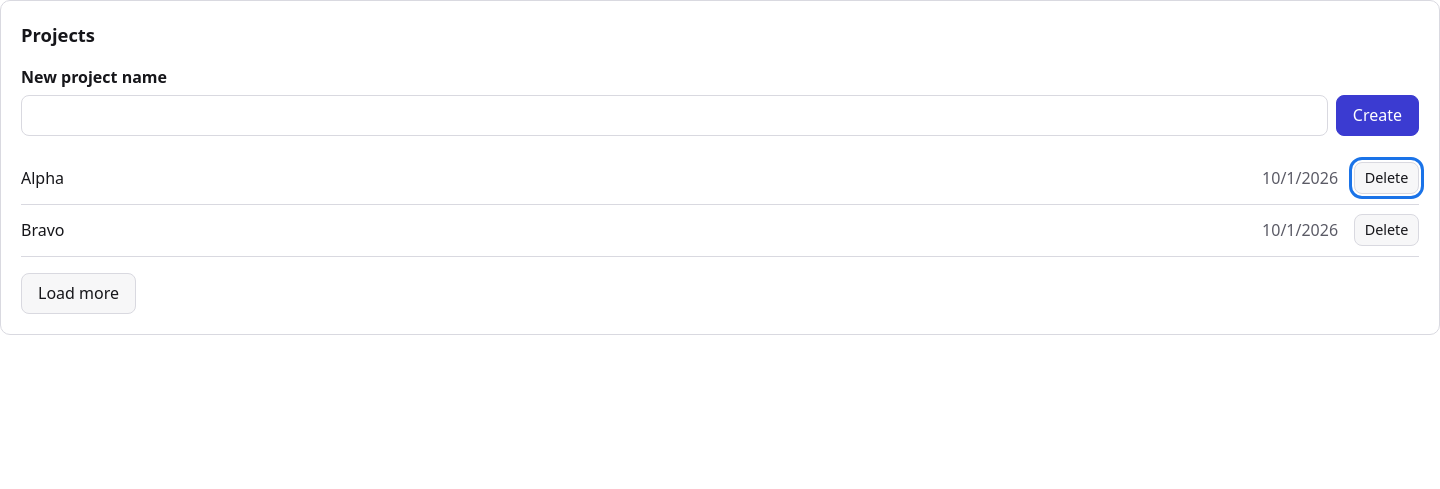
Scenario: projects panel focus while a request runs (FE-09) › leaves focus where the user moved it while a failing delete ran
Check: the text "Alpha" is shown, box [21,166,64,188]
Step 1. Press Enter
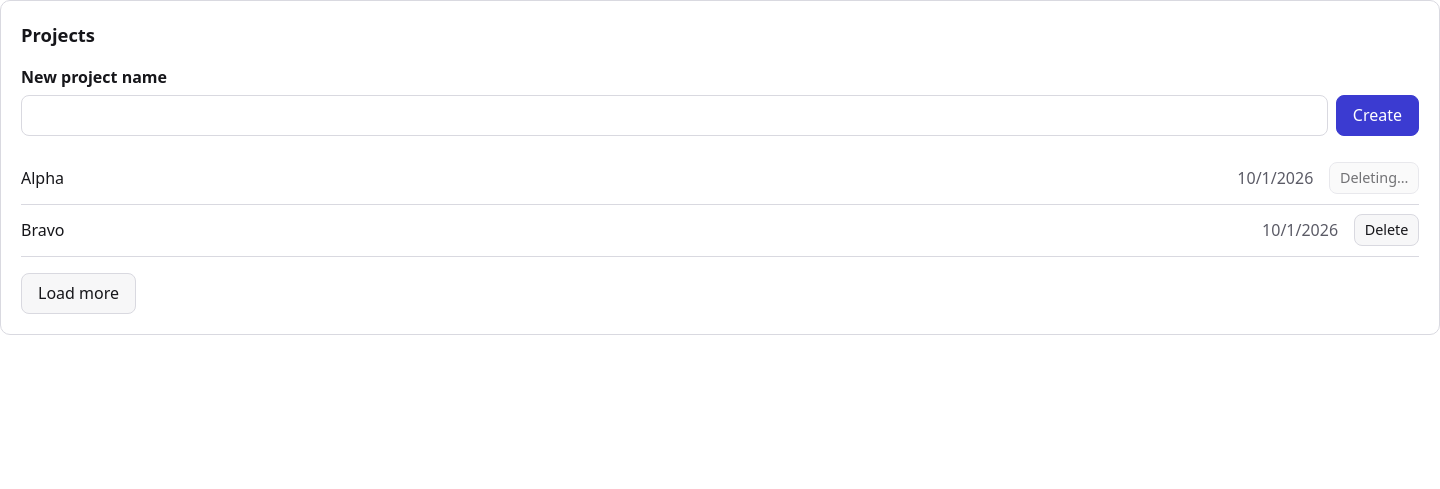
Step 2. Click the field labelled "New project name" → (674, 116), box [21,95,1328,136]
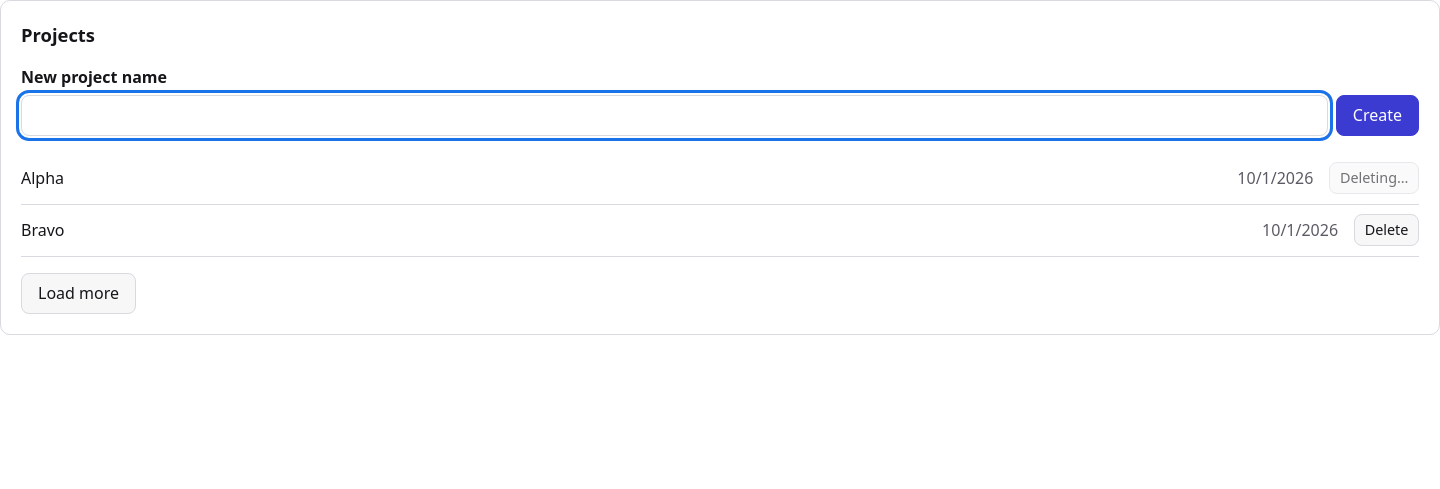
Step 3. Type keys "Next pro"
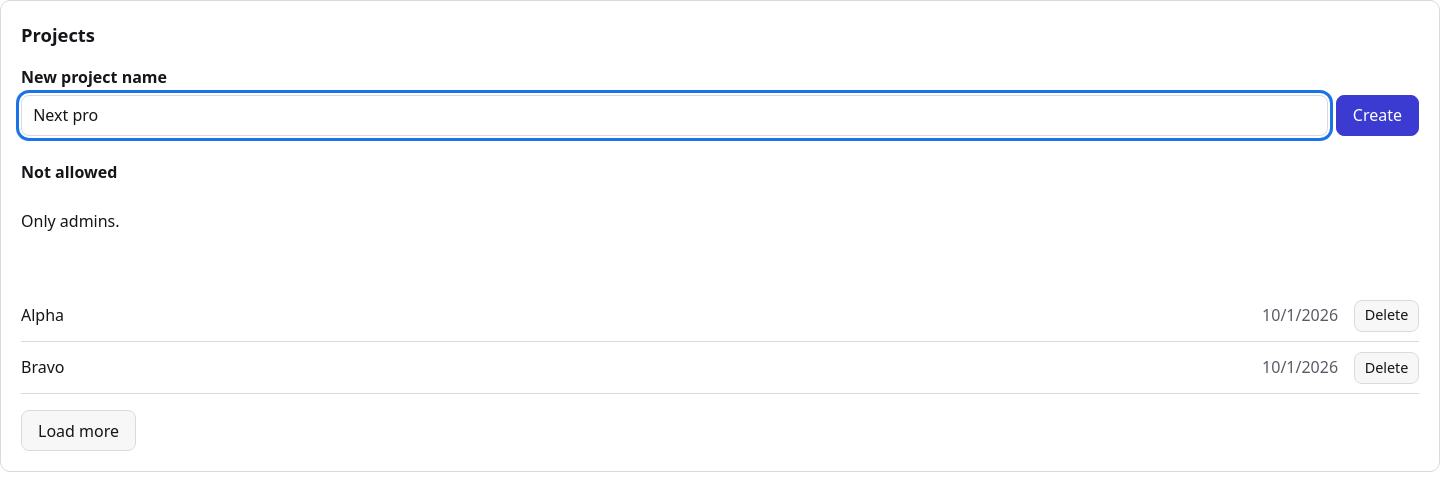
Check: the message shows "Not allowed", box [21,161,117,183]
